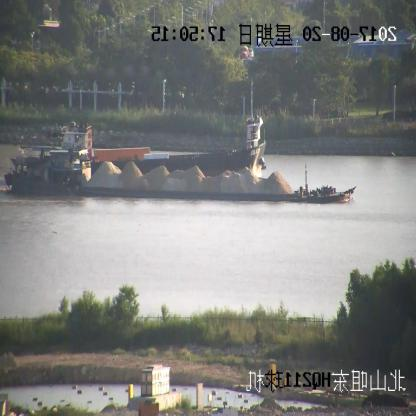Bulk Carrier: (56, 80, 266, 175)
